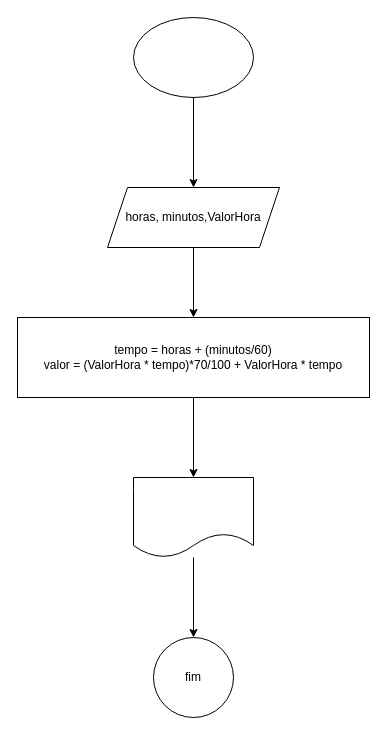
Some shapes in this 387 by 735 pixel diagram are drawn without their labels. The shapes that lost their labels are listed below. From the top down, each one's centre as x and y in pixels, then its label:
point (193, 57): inicio
point (193, 517): valor
